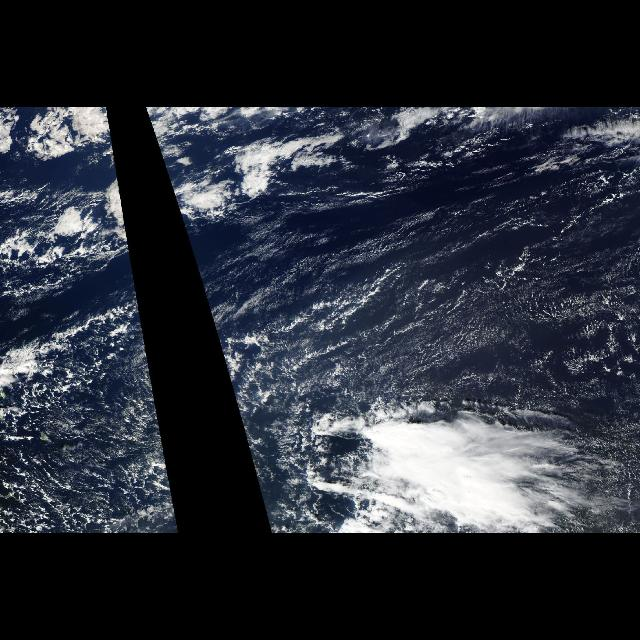Fish: (144, 108, 348, 288), (12, 108, 136, 288)
Gravel: (3, 302, 179, 534), (208, 302, 286, 534)
Sugar: (216, 172, 640, 426)
